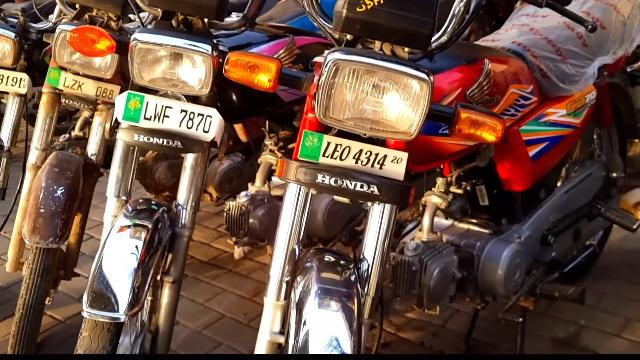plate: (298, 129, 409, 180), (119, 90, 219, 141), (46, 67, 118, 105)
